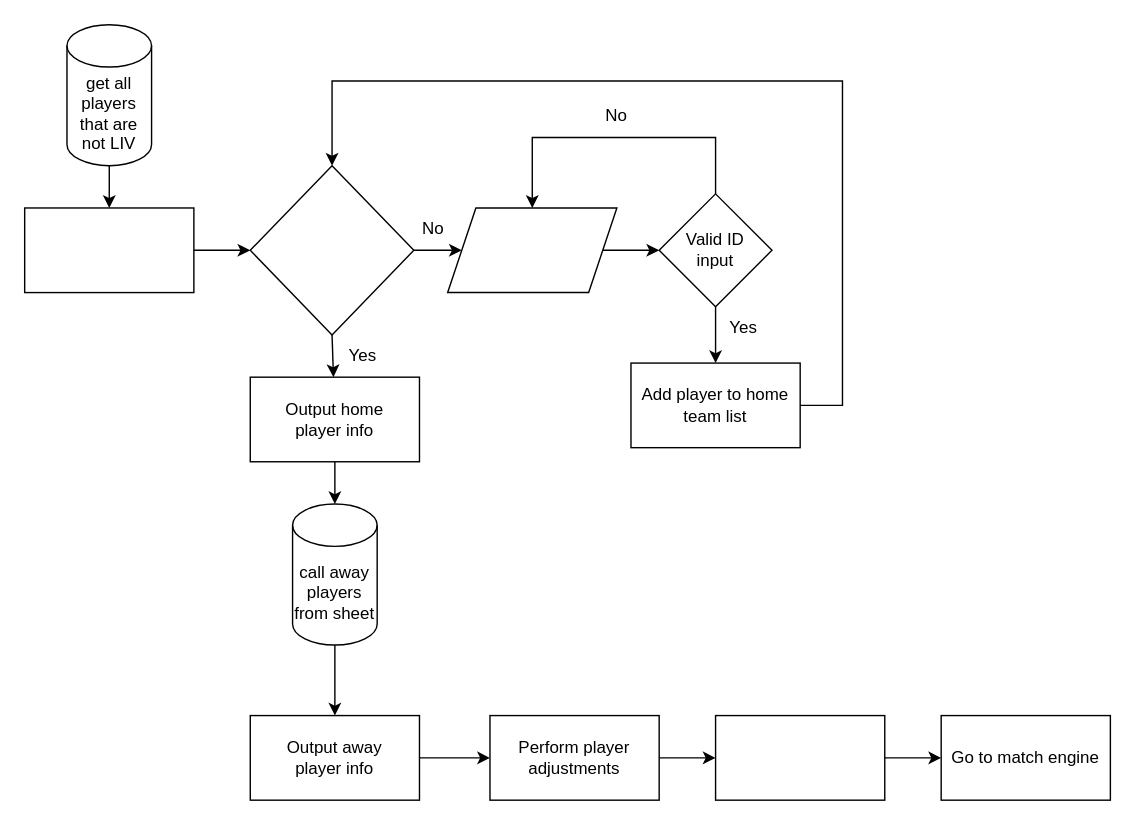
This 1135x825 diagram has some shape labels left out. Each missing label, with the centre of its shape:
Have 11 players been selected: point 331,249
Perform team calcs: point 799,757
Print available players in position order: point 108,250
User to select a player: point 531,250
